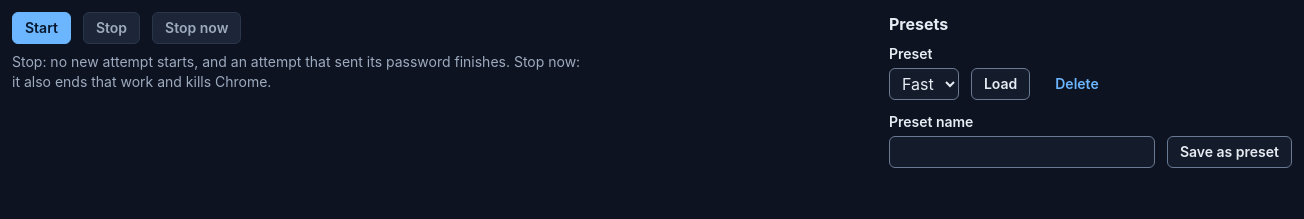
Test case: RunControls › saves the edited config as a preset
Expected: the button "Start" is shown, 12,12 -> 71,44
Step 1. Type "Five" into the field labelled "Preset name" → (1022, 152), box 889,136 -> 1155,168
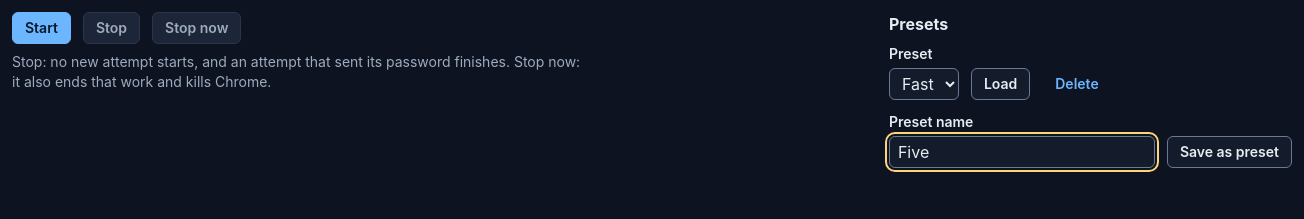
Step 2. Click the button "Save as preset" → (1229, 152), box 1167,136 -> 1292,168
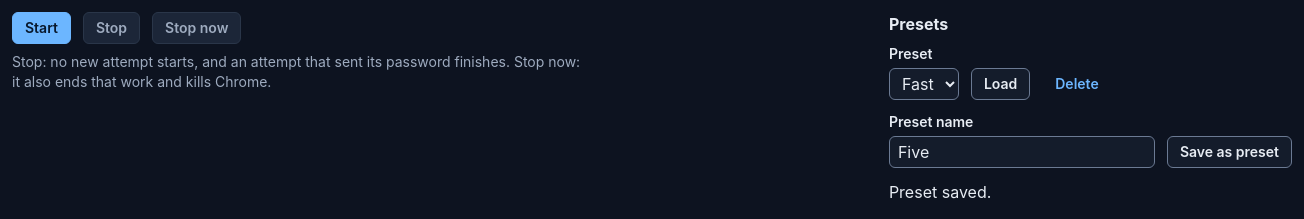
Now the message reads "Preset saved.", box 889,182 -> 991,202
